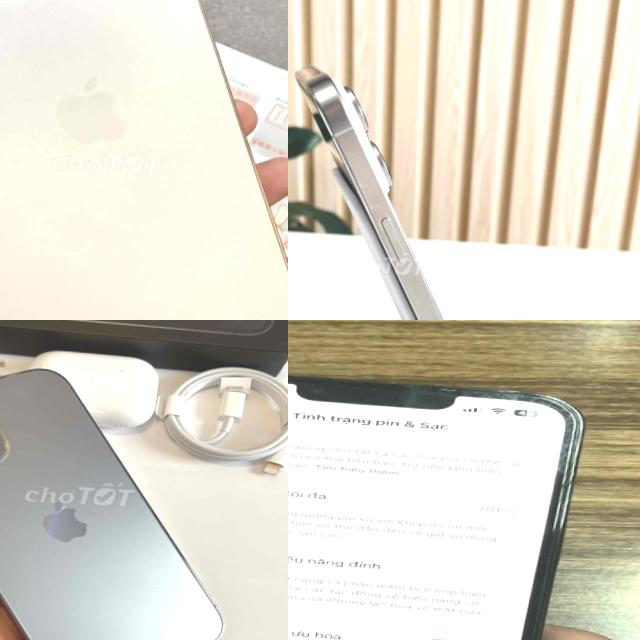gen_12_13: (288, 360, 618, 640), (0, 0, 288, 320), (0, 359, 241, 640)
gen_16: (288, 47, 532, 320)
